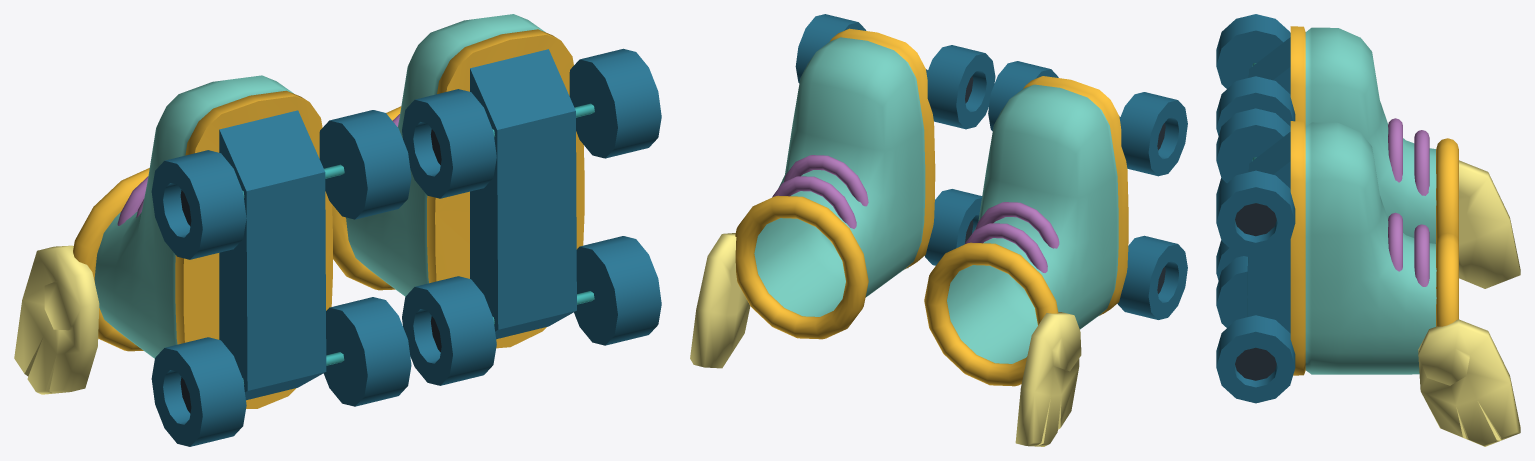
File: Booster_patin.fbx
3 views of the same model, side by side, from view 1: azimuth 30°, elevation 25°; view 2: azimuth 150°, elevation 25°; view 3: azimuth 270°, elevation 25° (orthographic). The views are drawn at different scales.
Visible parts, largest first — view 1: Plane.001; view 2: Plane.001; view 3: Plane.001.
Part boxes in pixels (x1,y1,x2,y2): Plane.001: (14,14,661,446); Plane.001: (690,14,1187,446); Plane.001: (1216,14,1520,446).
Size of the model in its own units: 126 by 95.44 by 93.71.
Materials: 1 (1 with a texture image).
